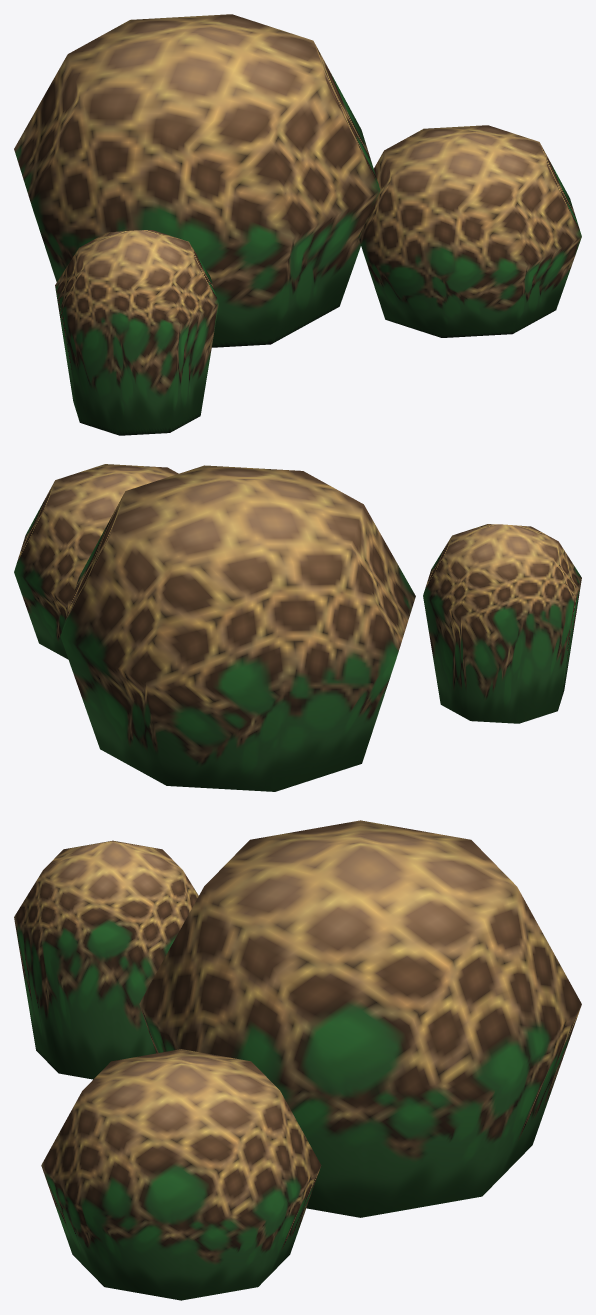
File: Coral_27_Group.FBX
The picture shows the model from 3 angles, top to bottom: view 1: azimuth 30°, elevation 25°; view 2: azimuth 150°, elevation 25°; view 3: azimuth 270°, elevation 25°; orthographic projection. The views are drawn at different scales.
Visible parts, largest first — view 1: Coral_27_Group; view 2: Coral_27_Group; view 3: Coral_27_Group.
Part boxes in pixels (x1=…): Coral_27_Group: x1=14, y1=14, x2=581, y2=435; Coral_27_Group: x1=14, y1=464, x2=581, y2=791; Coral_27_Group: x1=14, y1=820, x2=581, y2=1300.
Size of the model in its own units: 38.94 by 17.8 by 30.64.
